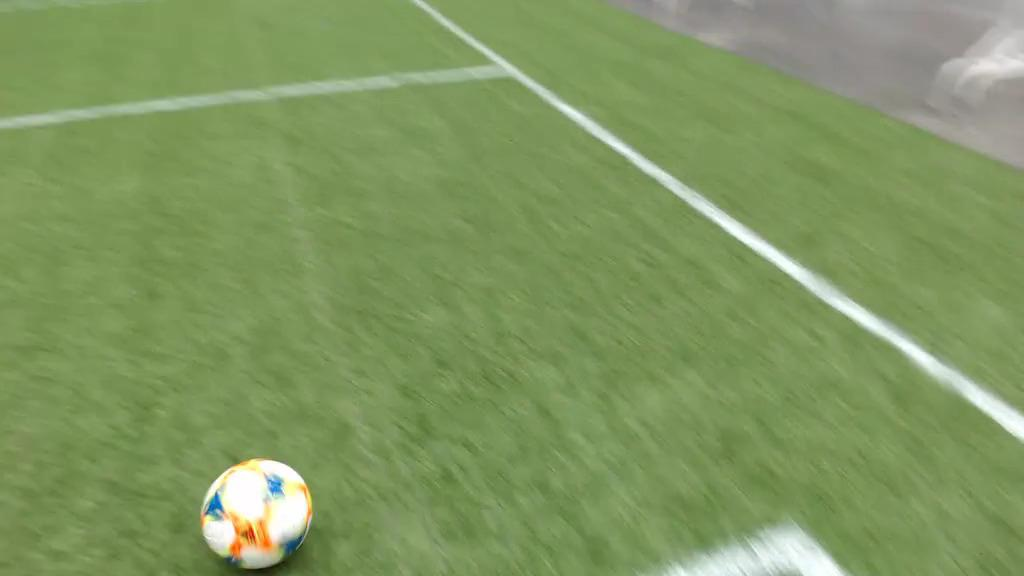ball: (174, 447, 321, 576)
